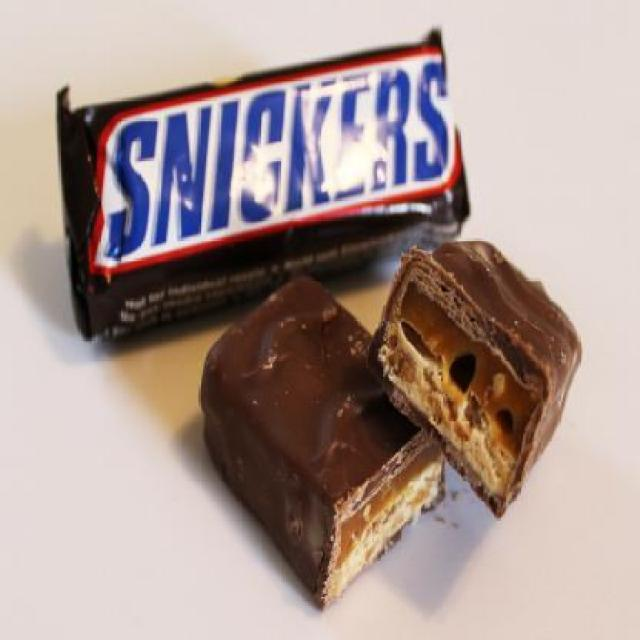Chocolate bar: (55, 28, 474, 327)
Chocolate bar packaged: (195, 278, 454, 618), (373, 234, 582, 526)
